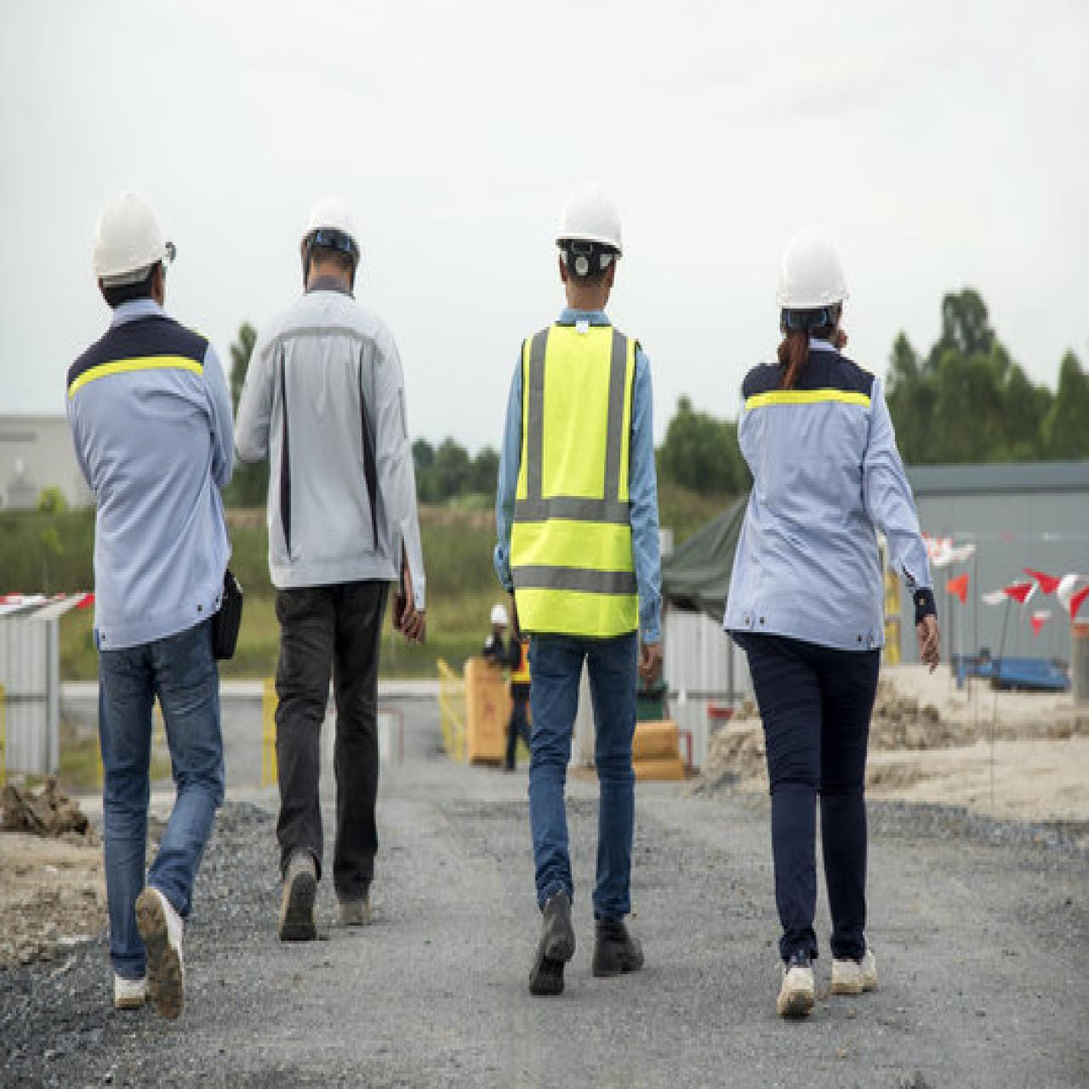NO_Safety_Vest: (68, 321, 223, 649), (738, 351, 885, 651), (263, 303, 398, 588)
Person: (709, 207, 941, 987), (48, 171, 242, 1015), (234, 180, 436, 917), (489, 173, 669, 966)
Safety_Vest: (512, 321, 647, 653)
